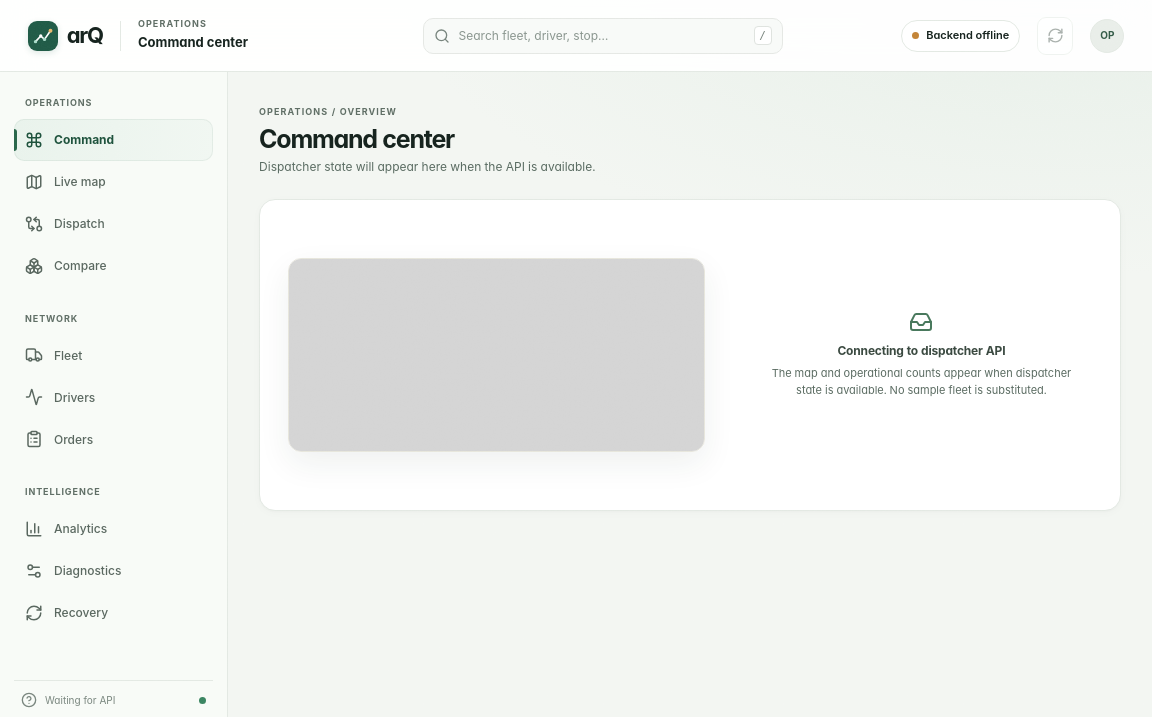
Test: Integrated operator journey (API boundary mocked) › shows a field-level validation error and does not submit a solver job
Click the button "Dispatch" at (114, 224), box [14,202,213,244]
(page scrolled)
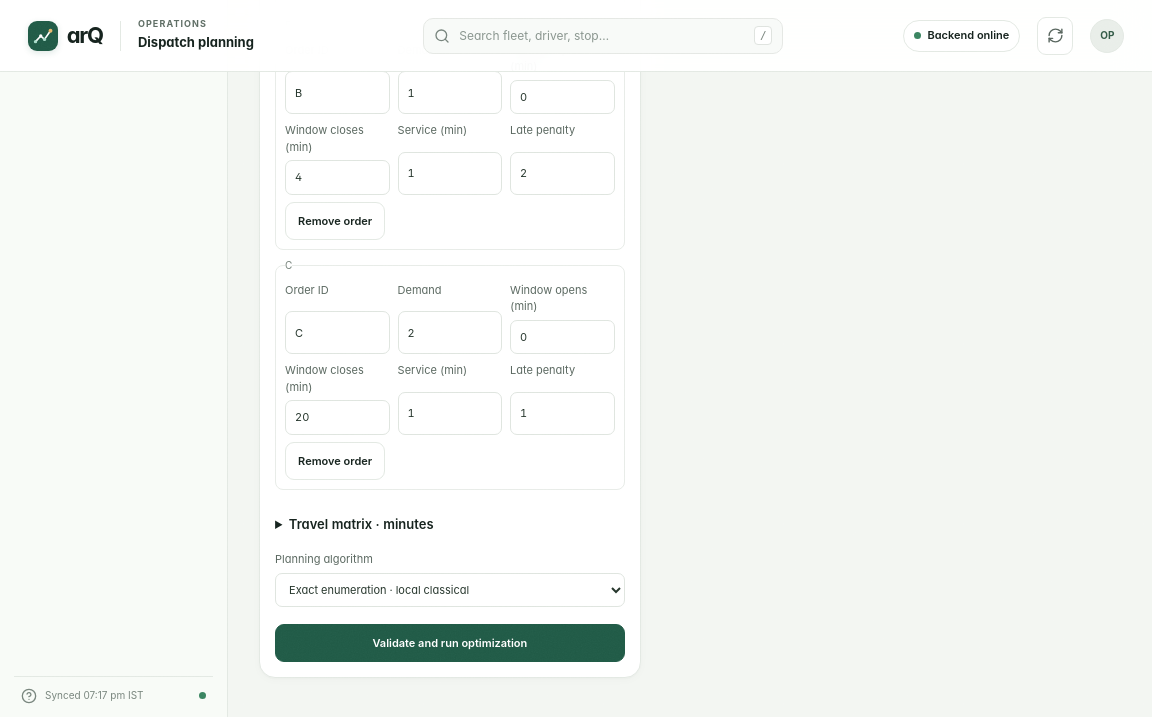
Click the button "Validate and run optimization" at (450, 643), box [275,624,625,662]
(page scrolled)
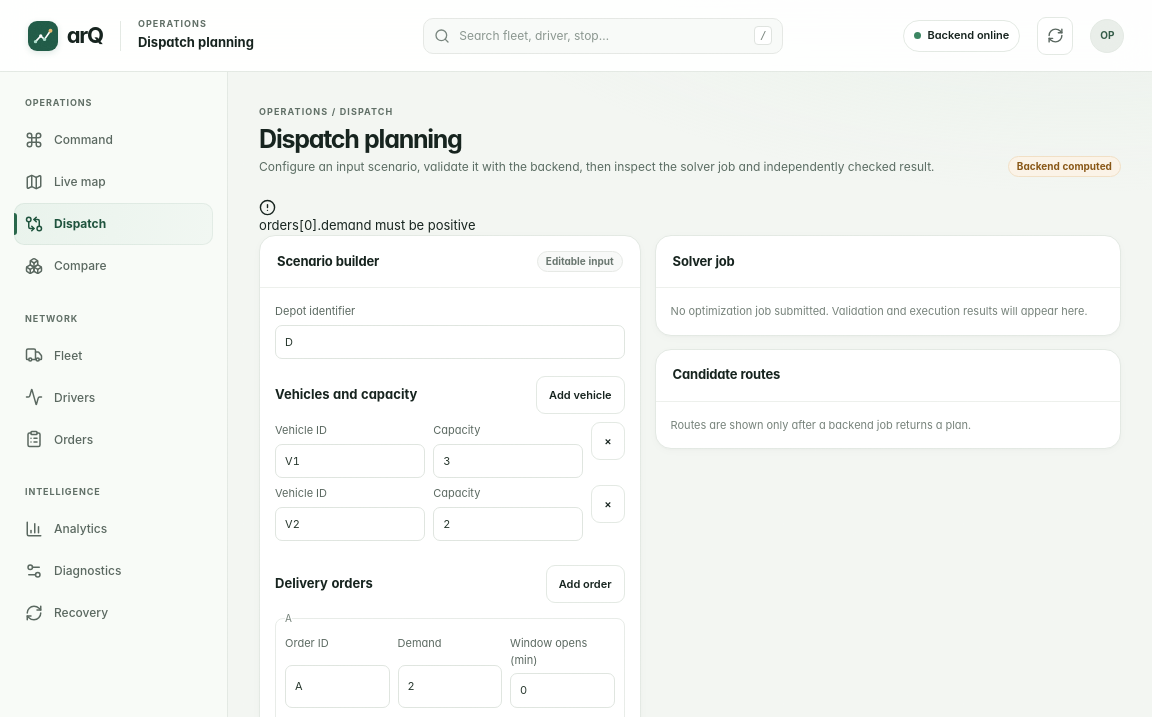
Check: the text "orders[0].demand must be positive" is shown, box [259,217,476,233]
